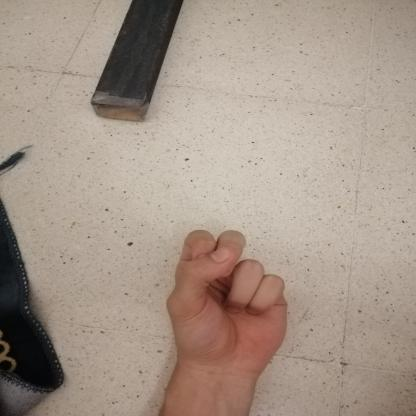QAAF: (153, 218, 309, 382)
